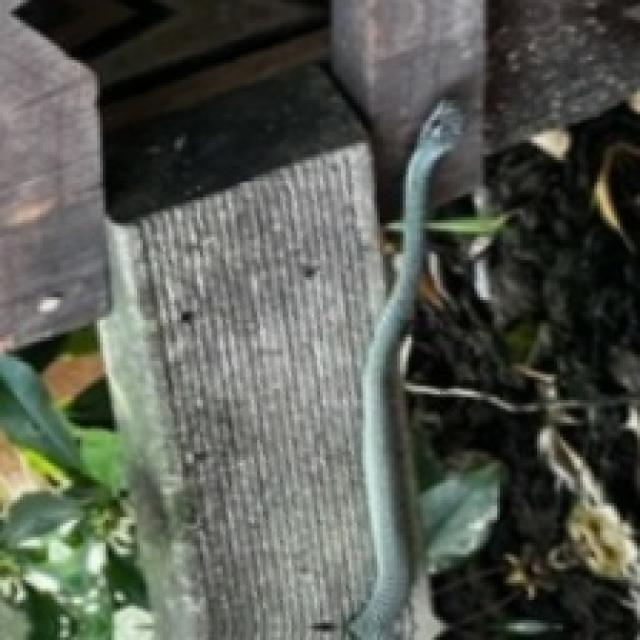paradise tree snake: (349, 97, 466, 637)
